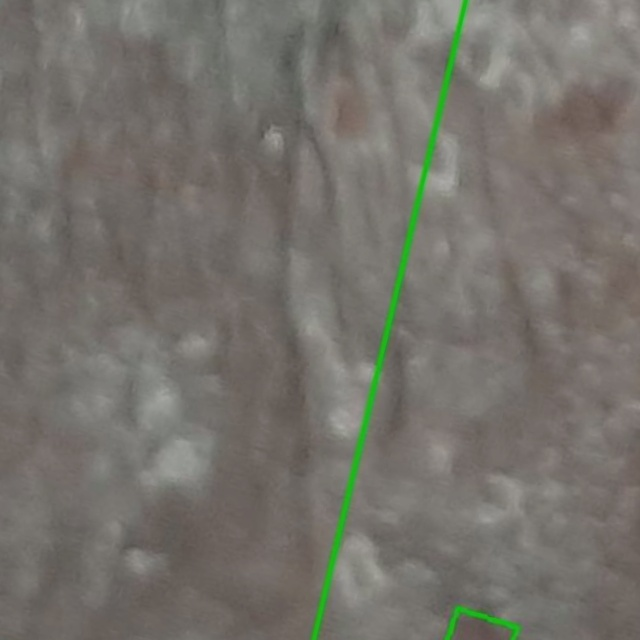Eczema: (0, 0, 465, 639)
